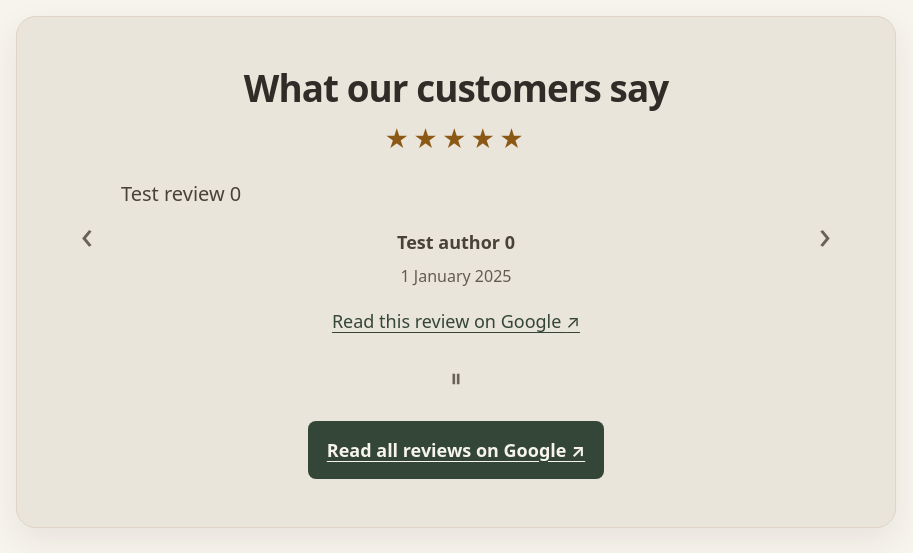
it: keeps every slide in layout but exposes only the active slide and its links
Expected: the element named "Review 1 of 2" shows "Test review 0", [121,180,241,207]
Click the button named "Next review". click: (825, 234)
box: [803,212,847,256]
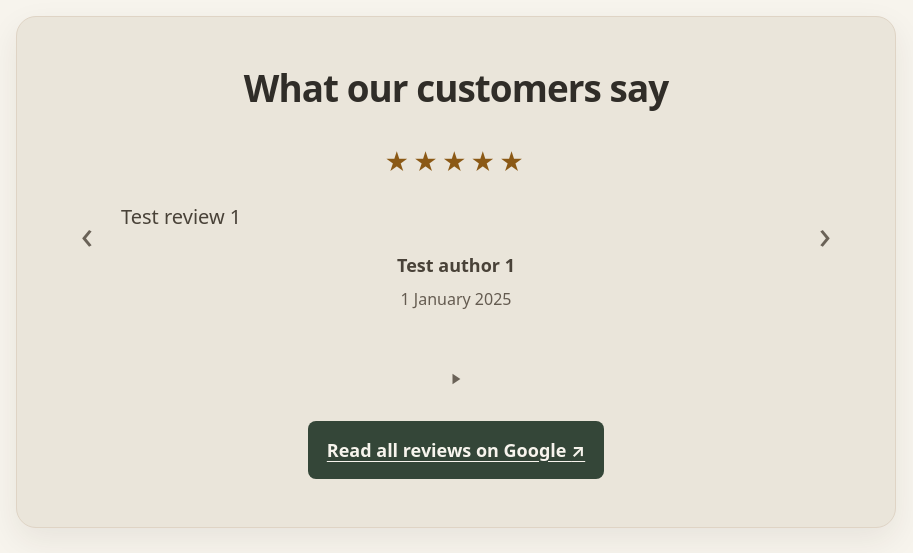
Expected: the element showing "★★★★★ Test review 1 Test author 1 1 January 2025" is shown, [121,138,791,330]
Expected: the link "Read this review on Google" is gone
